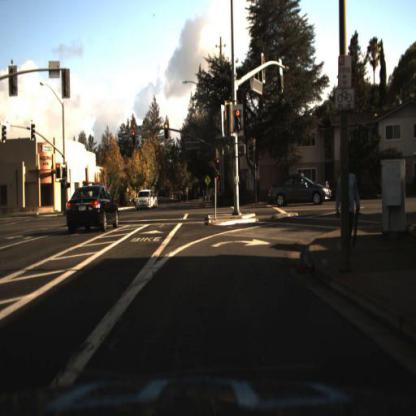car: (66, 184, 121, 235), (266, 173, 336, 211), (135, 191, 155, 211)
pedestrian: (337, 160, 361, 258)
trafficLight-Red: (234, 107, 244, 136), (164, 120, 171, 141), (215, 154, 222, 172)
trafficLight-RedLeft: (55, 162, 63, 181), (130, 128, 138, 146)
